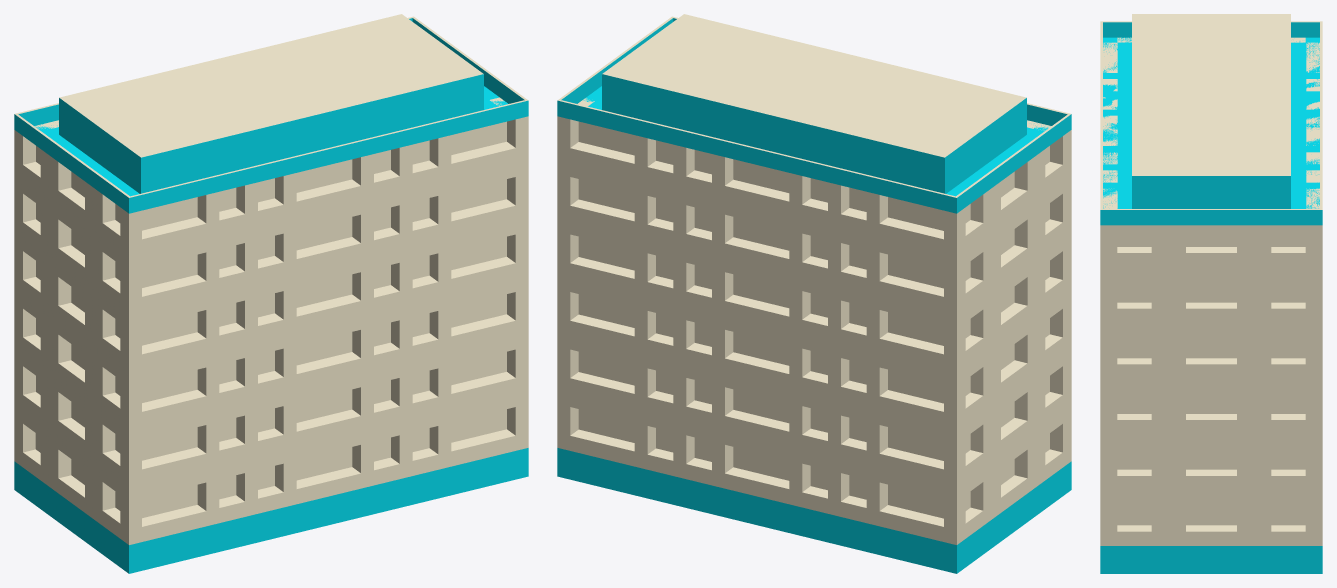
File: chung cu.fbx
3 views of the same model, side by side, from view 1: azimuth 30°, elevation 25°; view 2: azimuth 150°, elevation 25°; view 3: azimuth 270°, elevation 25° (orthographic). The views are drawn at different scales.
Parts seen in each view (by area): view 1: Chung cu; view 2: Chung cu; view 3: Chung cu.
Part boxes in pixels (bbox=[...]): Chung cu: bbox=[14, 14, 528, 573]; Chung cu: bbox=[557, 14, 1071, 573]; Chung cu: bbox=[1100, 14, 1322, 573].
Size of the model in its own units: 795 by 756 by 396.
